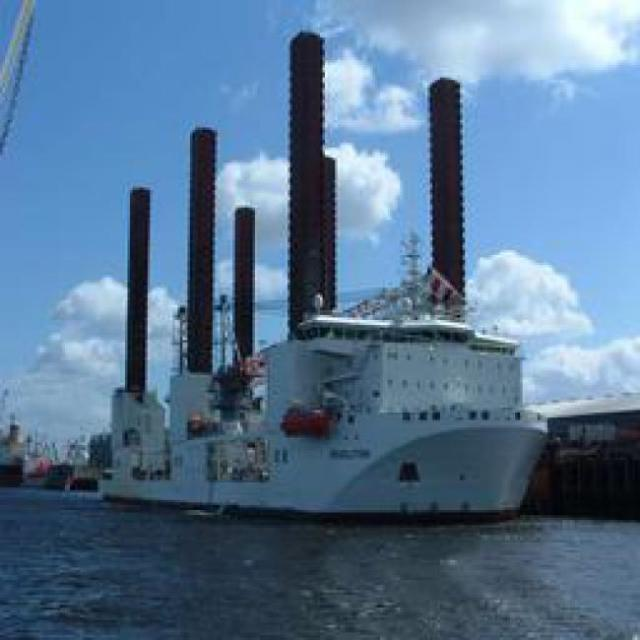boat: (111, 249, 548, 513)
